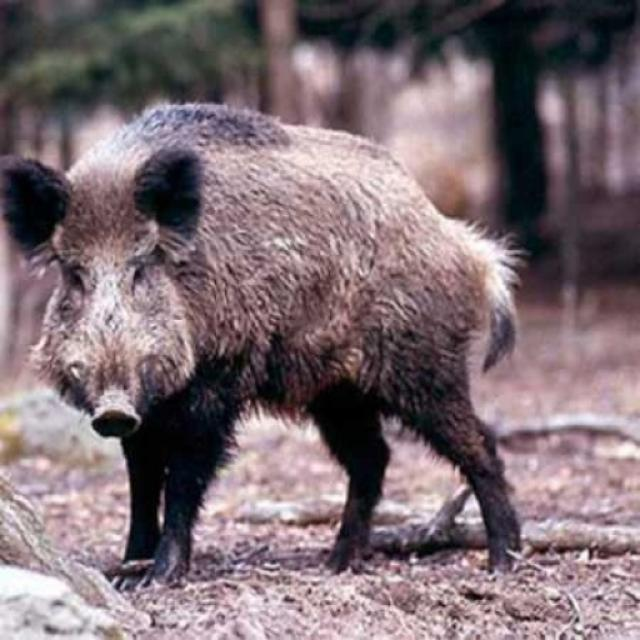pig: (1, 72, 561, 567)
